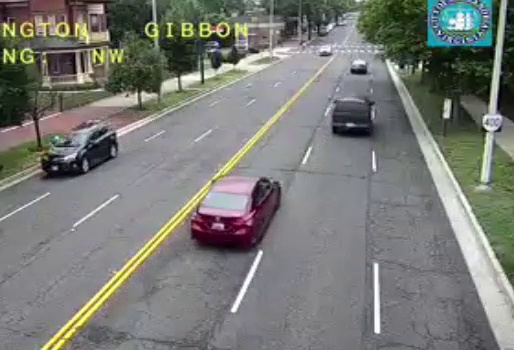car: (190, 176, 280, 246), (332, 98, 371, 133), (349, 60, 367, 74)
